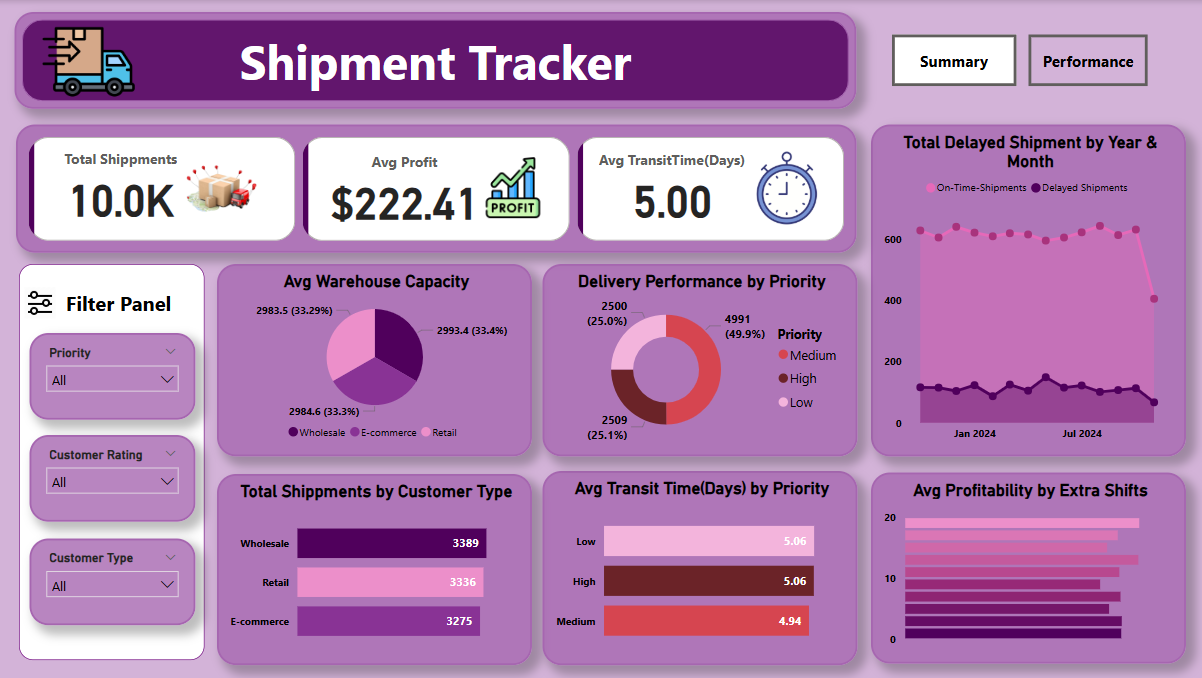

What the dashboard file says about the page in this screenshot:
{"tool":"powerbi","page":{"name":"Page 1","canvas":[1280,720],"ordinal":0},"visuals":[{"type":"barChart","fields":{"Y":["Shipment details.Total Shippments"],"Category":["Shipment details.Customer Type"]},"box":[231.6,501.9,334.2,202.7],"z":0},{"type":"shape","box":[18.1,13.3,892.8,102.5],"z":1000},{"type":"barChart","title":"Avg Transit Time(Days) by Priority","fields":{"Category":["Shipment details.Priority"],"Y":["Avg(Shipment details.Transit Time (Days))"]},"box":[577.9,499.5,334.2,206.3],"z":2000},{"type":"areaChart","title":"Total Delayed Shipment by Year & Month","fields":{"Category":["Shipment details.Shipment Date.Variation.Date Hierarchy.Year","Shipment details.Shipment Date.Variation.Date Hierarchy.Month"],"Y":["Shipment details.On-Time-Shipments","Shipment details.Delayed Shipments"]},"box":[925.3,131.5,334.2,352.3],"z":3000},{"type":"cardVisual","fields":{"Data":["Shipment details.Total Shippments","Shipment details.Avg Profit","Shipment details.Avg_Transit_Time(Days)"]},"box":[19.3,131.5,891.6,136.3],"z":4000},{"type":"pieChart","title":"Avg Warehouse Capacity","fields":{"Y":["Avg(Shipment details.Warehouse Capacity (KG))"],"Category":["Shipment details.Customer Type"]},"box":[231.6,279.9,334.2,203.9],"z":5000},{"type":"barChart","title":"Avg Profitability by Extra Shifts ","fields":{"Category":["Shipment details.Extra Shifts Required"],"Y":["Sum(Shipment details.Profitability ($))"]},"box":[925.3,500.7,334.2,202.7],"z":6000},{"type":"shape","box":[22.9,279.9,196.6,419.8],"z":7000},{"type":"image","box":[37.6,9.4,115.5,111.5],"z":8000},{"type":"donutChart","title":"Delivery Performance by Priority","fields":{"Y":["Shipment details.Total Shippments"],"Category":["Shipment details.Priority"]},"box":[577.9,279.9,334.2,203.9],"z":9000},{"type":"slicer","fields":{"Values":["Shipment details.Customer Type"]},"box":[33.8,570.6,176.1,91.7],"z":10000},{"type":"textbox","box":[67.6,300.4,143.6,53.1],"z":11000},{"type":"image","box":[22.9,289.5,44.6,63.9],"z":12000},{"type":"slicer","fields":{"Values":["Shipment details.Priority"]},"box":[33.8,353.5,176.1,91.7],"z":13000},{"type":"slicer","fields":{"Values":["Shipment details.Customer Rating"]},"box":[33.8,460.9,176.1,91.7],"z":14000},{"type":"actionButton","box":[1092.5,36.6,126.8,54.9],"z":15000},{"type":"actionButton","title":"Summary","box":[947.4,36.6,131.7,54.9],"z":16000}]}

Visuals, with their boxes in screenshot pixels (x1, y1, x2, y2), scaled from the page's 1280x720 canvas onto the 1202x678 screenshot:
barChart - Shipment details.Total Shippments x Shipment details.Customer Type: <box>217,473,531,663</box>
shape: <box>17,13,855,109</box>
"Avg Transit Time(Days) by Priority" barChart: <box>543,470,857,665</box>
"Total Delayed Shipment by Year & Month" areaChart: <box>869,124,1183,456</box>
cardVisual - Shipment details.Total Shippments x Shipment details.Avg Profit: <box>18,124,855,252</box>
"Avg Warehouse Capacity" pieChart: <box>217,264,531,456</box>
"Avg Profitability by Extra Shifts " barChart: <box>869,471,1183,662</box>
shape: <box>22,264,206,659</box>
image: <box>35,9,144,114</box>
"Delivery Performance by Priority" donutChart: <box>543,264,857,456</box>
slicer - Shipment details.Customer Type: <box>32,537,197,624</box>
textbox: <box>63,283,198,333</box>
image: <box>22,273,63,333</box>
slicer - Shipment details.Priority: <box>32,333,197,419</box>
slicer - Shipment details.Customer Rating: <box>32,434,197,520</box>
actionButton: <box>1026,34,1145,86</box>
"Summary" actionButton: <box>890,34,1013,86</box>
